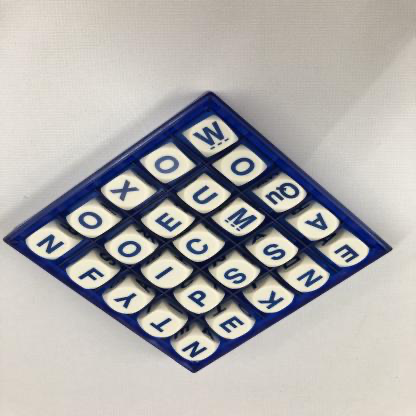a: (298, 211, 339, 241)
c: (179, 233, 218, 260)
e: (213, 312, 255, 342), (329, 238, 367, 268), (149, 209, 187, 236)
f: (70, 260, 114, 289)
i: (149, 261, 188, 287)
k: (253, 288, 293, 315)
m: (219, 203, 263, 236)
n: (288, 265, 329, 294), (31, 228, 70, 257), (180, 336, 219, 363)
o: (144, 150, 190, 183), (71, 207, 115, 237), (223, 153, 263, 183), (111, 237, 151, 264)
p: (182, 288, 219, 315)
qu: (263, 181, 303, 211)
s: (257, 239, 296, 267), (216, 262, 255, 289)
t: (145, 312, 181, 336)
u: (187, 183, 227, 213)
w: (192, 121, 236, 152)
x: (107, 176, 150, 208)
y: (108, 288, 145, 316)
